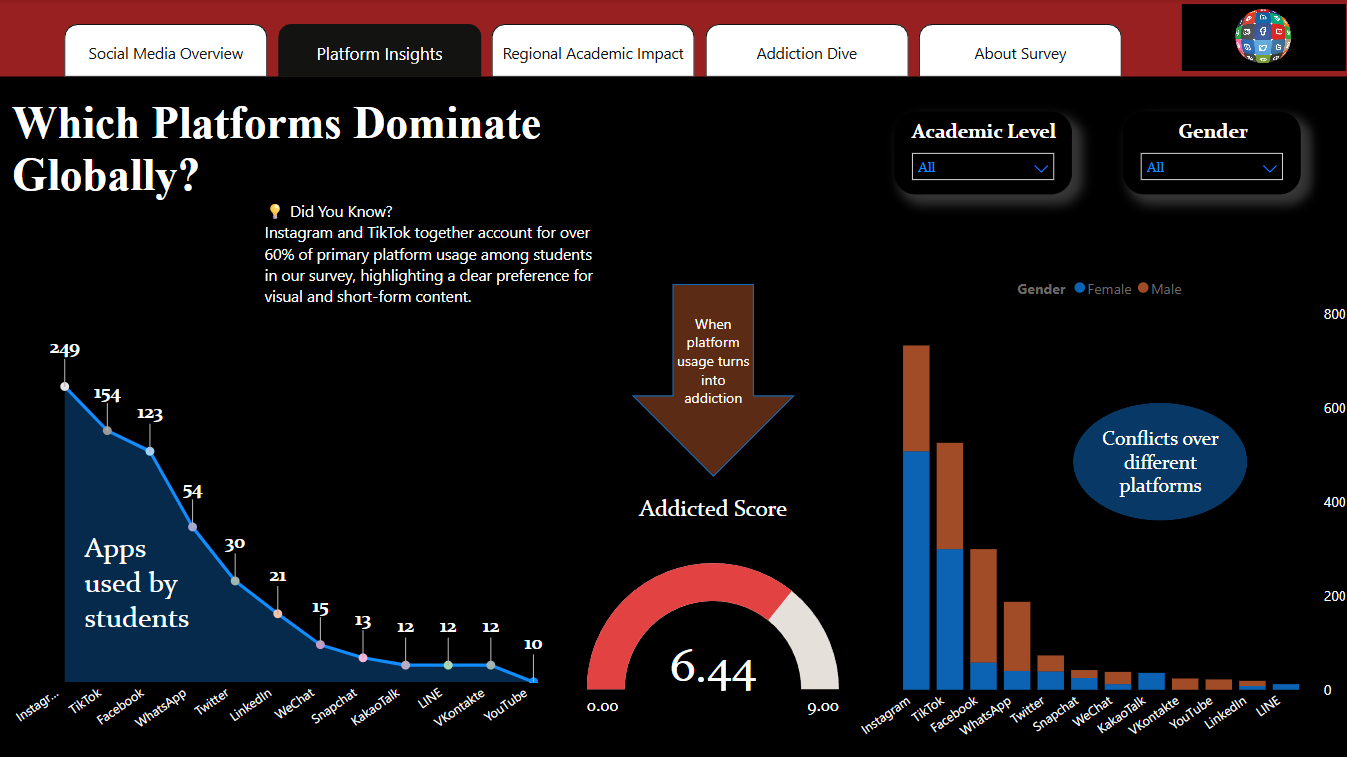

Layout of this report page (visuals, bound fields, positions):
{"tool":"powerbi","page":{"name":"Platform Insights","canvas":[1280,720],"ordinal":1},"visuals":[{"type":"lineChart","fields":{"Category":["Students Social Media Addiction.Most_Used_Platform"],"Y":["CountNonNull(Students Social Media Addiction.Student_ID)"]},"box":[0,224.9,534.8,495.5],"z":1000},{"type":"textbox","box":[77.1,497,121.1,124.3],"z":1000},{"type":"textbox","box":[8.1,86.9,518.6,138.5],"z":2000},{"type":"slicer","title":"Gender","fields":{"Values":["Students Social Media Addiction.Gender"]},"box":[1063.3,107,168.3,78.6],"z":3000},{"type":"slicer","title":"Academic Level","fields":{"Values":["Students Social Media Addiction.Academic_Level"]},"box":[847.8,107,168.3,78.6],"z":4000},{"type":"shape","box":[0,0,1280.3,73.3],"z":6000},{"type":"image","box":[1114.6,0,165.6,73.3],"z":9000},{"type":"pageNavigator","box":[62.9,23.6,1000.3,50.3],"z":9001},{"type":"columnChart","fields":{"Y":["Sum(Students Social Media Addiction.Conflicts_Over_Social_Media)"],"Series":["Students Social Media Addiction.Gender"],"Category":["Students Social Media Addiction.Most_Used_Platform"]},"box":[806.9,253.2,473.4,467.1],"z":9002},{"type":"shape","box":[1016.1,382.2,165.2,111.7],"z":9003},{"type":"gauge","title":"Addicted Score","fields":{"Y":["Avg(Students Social Media Addiction.Addicted_Score)"]},"box":[552.1,468.7,248.5,251.7],"z":9006},{"type":"shape","box":[599.3,269,154.1,182.5],"z":9007},{"type":"textbox","box":[246.9,185.6,335,149.4],"z":9008}]}

Visuals, with their boxes in screenshot pixels (x1, y1, x2, y2), scaled from the page's 1280x720 canvas onto the 1347x757 screenshot:
lineChart - Students Social Media Addiction.Most_Used_Platform x CountNonNull(Students Social Media Addiction.Student_ID): 0 236 563 756
textbox: 81 523 209 653
textbox: 9 91 554 237
"Gender" slicer: 1119 112 1296 195
"Academic Level" slicer: 892 112 1069 195
shape: 0 0 1346 77
image: 1173 0 1346 77
pageNavigator: 66 25 1119 78
columnChart - Sum(Students Social Media Addiction.Conflicts_Over_Social_Media) x Students Social Media Addiction.Gender: 849 266 1346 756
shape: 1069 402 1243 519
"Addicted Score" gauge: 581 493 843 756
shape: 631 283 793 475
textbox: 260 195 612 352
